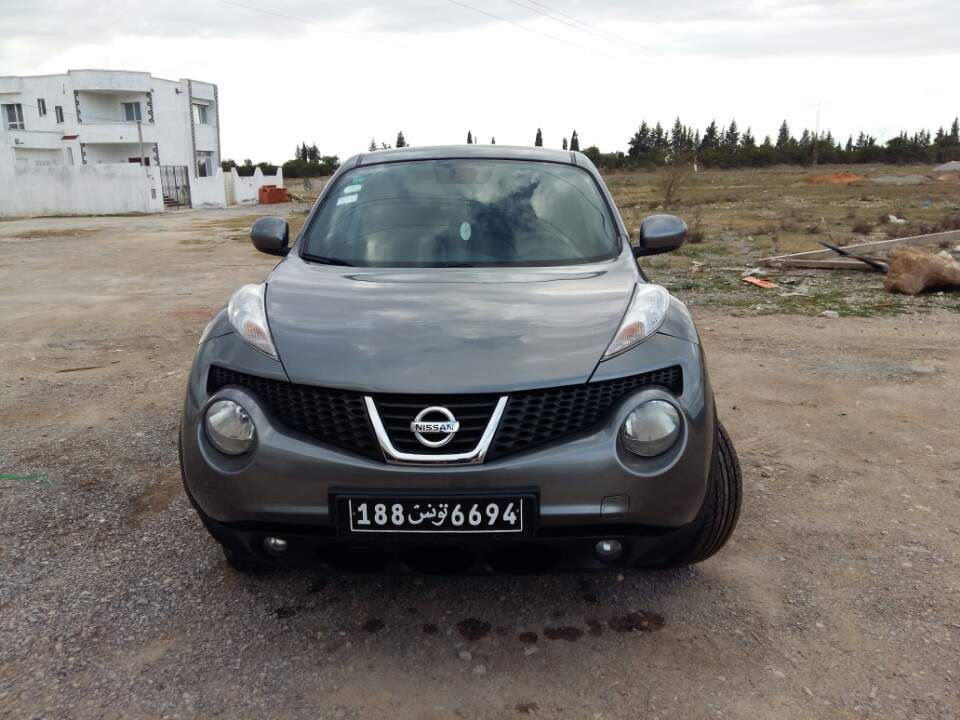LP: (348, 496, 527, 534)
